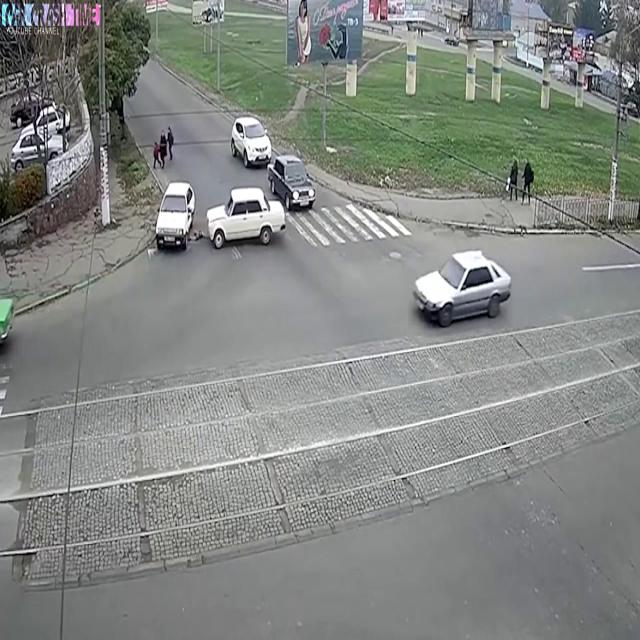accident: (149, 171, 290, 261)
